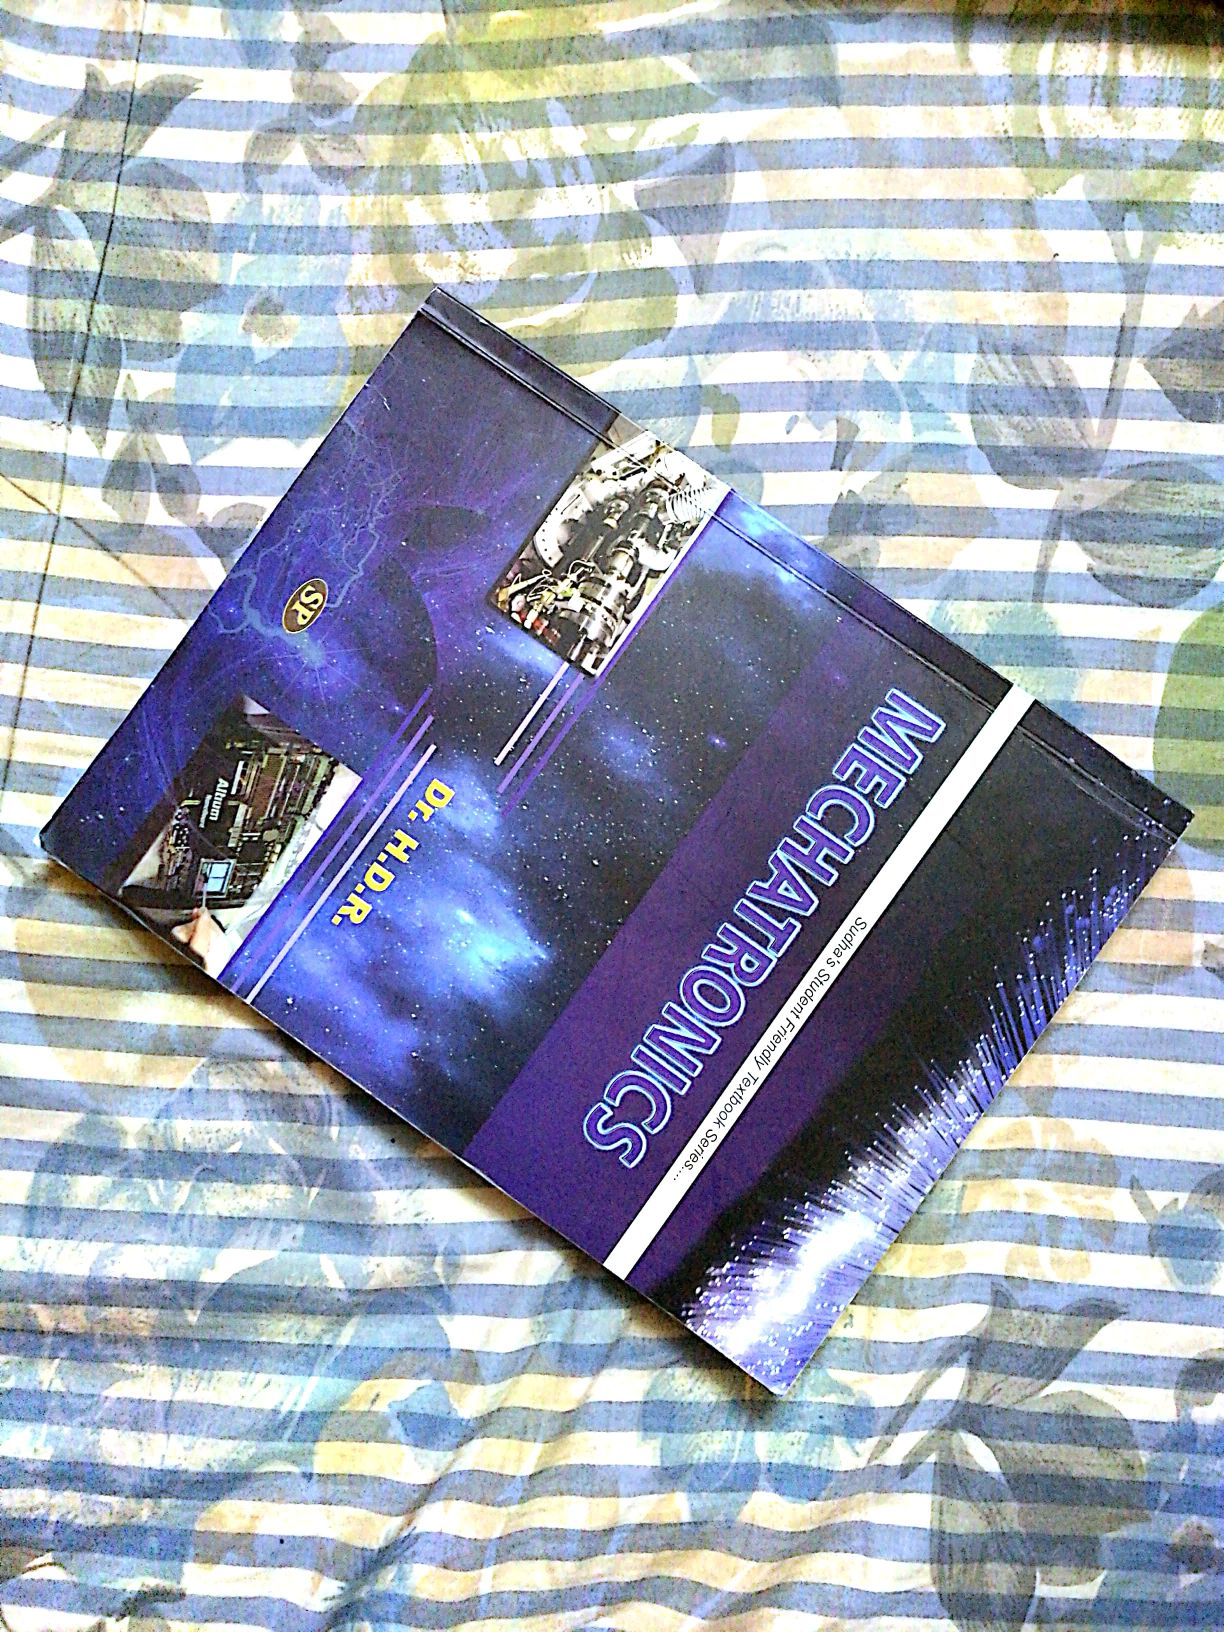mechatronics: (93, 359, 1140, 1295)
